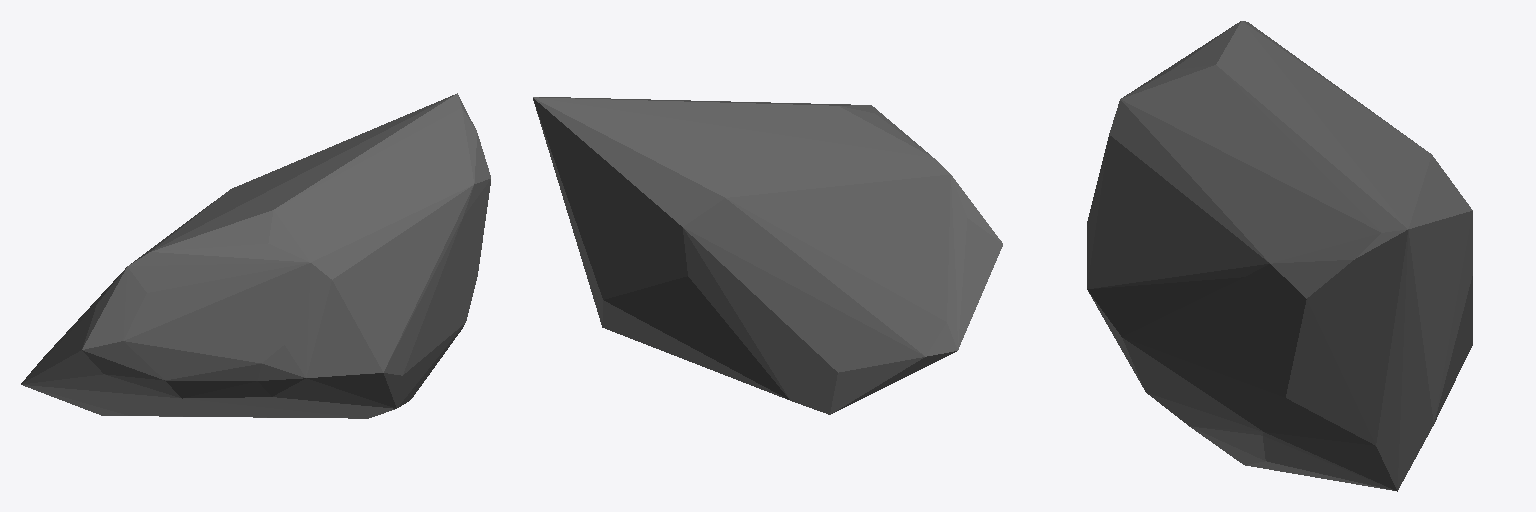
The robot description file, URDF, robot "85_024":
<?xml version="1.0"?>
<robot name="85_024">
  <link name="link">
    <contact>
      <lateral_friction value="0.6"/>
    </contact>
    <inertial>
      <mass value = "0.548019328633899"/>
      <inertia ixx="0.00023052621427555975" ixy="2.515995822831616e-05" ixz="1.9847284946569417e-05" iyy="0.00045094927273258556" iyz="-2.3184718042271146e-05" izz="0.00045541877313063375" />
    </inertial>
    <visual name="visual">
      <geometry>
        <mesh filename="85_024.obj"/>
      </geometry>
      <material name="material">
        <color rgba="0.4347915146485013 0.4347915146485013 0.4347915146485013 1.0"/>
      </material>
    </visual>
    <collision name="collision">
      <geometry>
        <mesh filename="85_024.obj"/>
      </geometry>
    </collision>
  </link>
</robot>

--- Facts derived from the render (not from the file) ---
The picture shows the robot from 3 angles, left to right: view 1: azimuth 30°, elevation 25°; view 2: azimuth 150°, elevation 25°; view 3: azimuth 270°, elevation 25°; orthographic projection.
Robot: 85_024 — 1 links, 0 joints (none); root link link; default pose: all joints at 0.
Visible links, largest first — view 1: link; view 2: link; view 3: link.
Link boxes in pixels (left/top/right/bottom): link: left=21, top=93, right=490, bottom=418; link: left=533, top=97, right=1002, bottom=414; link: left=1087, top=21, right=1472, bottom=491.
Size in the robot's own frame: 0.1161 by 0.0659 by 0.0605 metres.
Meshes: 1 distinct files referenced, 1 mesh visuals loaded (1 OBJ).
